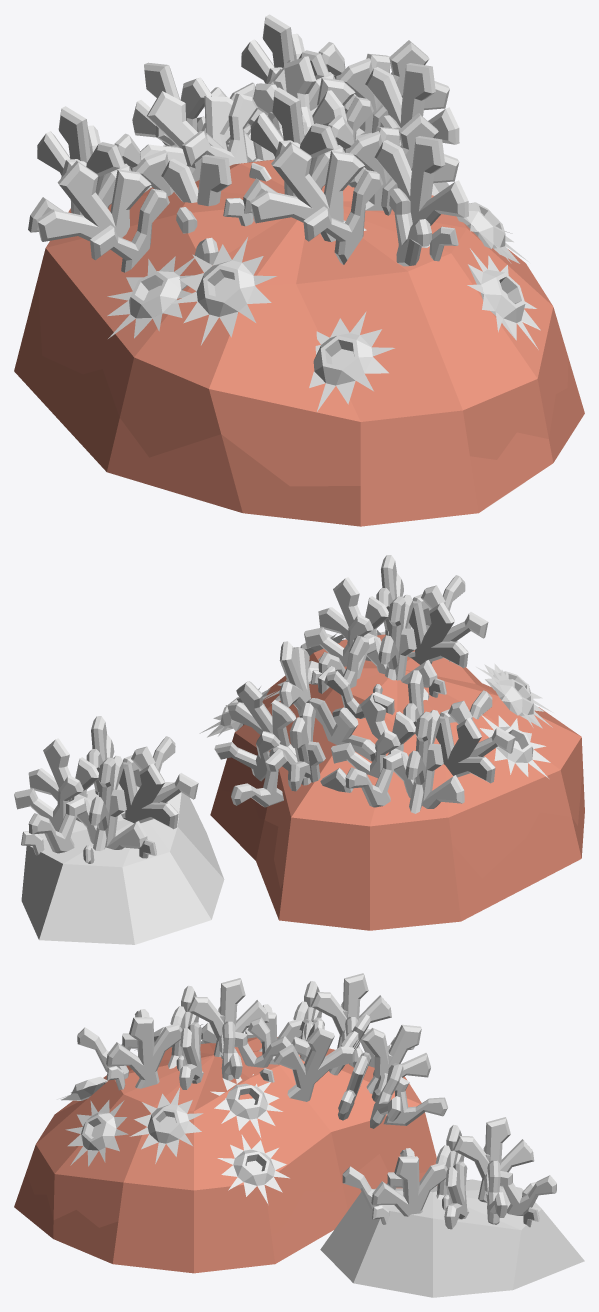
File: coral.glb
3 renders of one model, top to bottom at view 1: azimuth 30°, elevation 25°; view 2: azimuth 150°, elevation 25°; view 3: azimuth 270°, elevation 25°, orthographic. The views are drawn at different scales.
Visible parts, largest first — view 1: Esfera UV, Plano.020, Plano.043, Cilindro.001, Plano.026, Cilindro.002, Plano.001, Cilindro, Plano.034, Plano.019, Plano.044, Cilindro.005 (+20 smaller); view 2: Esfera UV, Esfera UV.001, Plano.020, Plano.007, Plano.043, Plano.029, Plano.002, Plano.025, Plano.045, Plano.044, Plano.034, Plano.013 (+29 smaller); view 3: Esfera UV, Esfera UV.001, Plano.028, Plano.026, Plano.001, Plano.008, Cilindro.004, Plano.035, Plano.019, Cilindro.003, Plano.044, Cilindro.005 (+19 smaller).
Part boxes in pixels (x1,y1,x2,y2): Esfera UV: [14, 159, 584, 526]; Plano.020: [250, 142, 366, 241]; Plano.043: [36, 160, 151, 241]; Cilindro.001: [170, 237, 276, 345]; Plano.026: [374, 136, 468, 247]; Cilindro.002: [309, 311, 394, 411]; Plano.001: [365, 63, 459, 144]; Cilindro: [107, 256, 196, 338]; Plano.034: [140, 91, 233, 165]; Plano.019: [250, 87, 337, 176]; Plano.044: [37, 106, 124, 195]; Cilindro.005: [467, 248, 540, 349]; Esfera UV: [210, 634, 584, 930]; Esfera UV.001: [21, 782, 224, 944]; Plano.020: [407, 601, 468, 667]; Plano.007: [119, 762, 178, 829]; Plano.043: [436, 716, 495, 783]; Plano.029: [227, 681, 296, 756]; Plano.002: [28, 738, 98, 822]; Plano.025: [318, 577, 388, 661]; Plano.045: [388, 743, 464, 808]; Plano.044: [405, 710, 440, 813]; Plano.034: [306, 698, 376, 761]; Plano.013: [71, 789, 147, 849]; Esfera UV: [14, 1037, 437, 1273]; Esfera UV.001: [320, 1179, 584, 1297]; Plano.028: [273, 1027, 354, 1101]; Plano.026: [106, 1017, 182, 1088]; Plano.001: [371, 1156, 447, 1216]; Plano.008: [453, 1117, 534, 1202]; Cilindro.004: [129, 1088, 203, 1163]; Plano.035: [361, 1024, 430, 1093]; Plano.019: [188, 978, 268, 1056]; Cilindro.003: [217, 1134, 289, 1204]; Plano.044: [311, 973, 391, 1048]; Cilindro.005: [65, 1100, 128, 1166].
Size of the model in its own units: 2.62 by 1.47 by 3.51.
